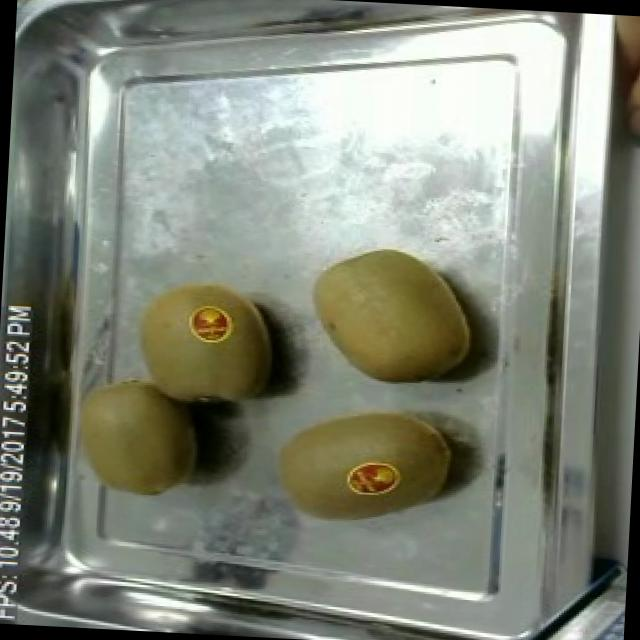Fruit: (300, 236, 486, 394), (264, 394, 462, 542), (124, 268, 282, 420), (62, 369, 205, 506)
